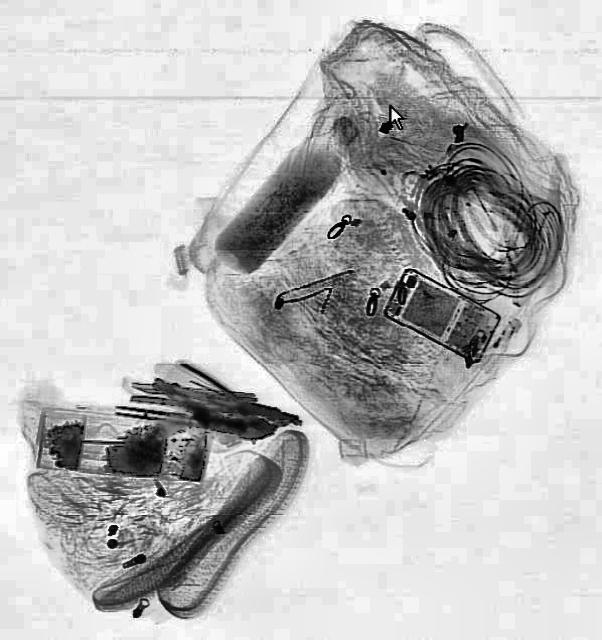Pliers: (127, 348, 309, 444)
